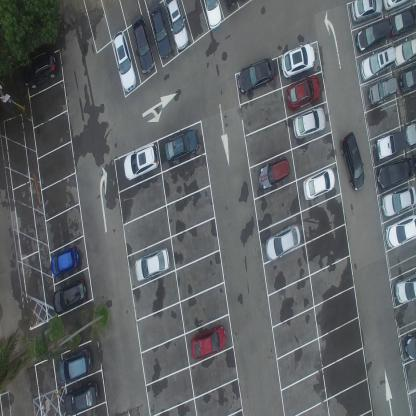car: (340, 130, 366, 192), (112, 30, 136, 94), (237, 57, 275, 96), (130, 13, 154, 74), (24, 47, 57, 91), (123, 142, 159, 182), (162, 0, 190, 51), (148, 0, 172, 59), (265, 223, 301, 262), (280, 42, 316, 80), (356, 18, 392, 55), (359, 45, 395, 82), (164, 127, 199, 165), (376, 156, 414, 191), (53, 278, 88, 315), (286, 74, 320, 112), (135, 246, 170, 282), (192, 324, 226, 361), (302, 166, 336, 202), (292, 105, 326, 141), (58, 349, 92, 384), (64, 382, 100, 415), (381, 185, 416, 218), (258, 156, 290, 190), (374, 128, 406, 162), (386, 214, 416, 249), (50, 246, 80, 277), (388, 6, 416, 38), (350, 0, 382, 25), (368, 77, 397, 104), (394, 270, 416, 304), (392, 38, 416, 67), (202, 0, 222, 31), (398, 64, 416, 93), (404, 330, 416, 362), (404, 119, 416, 147), (381, 0, 411, 11)
